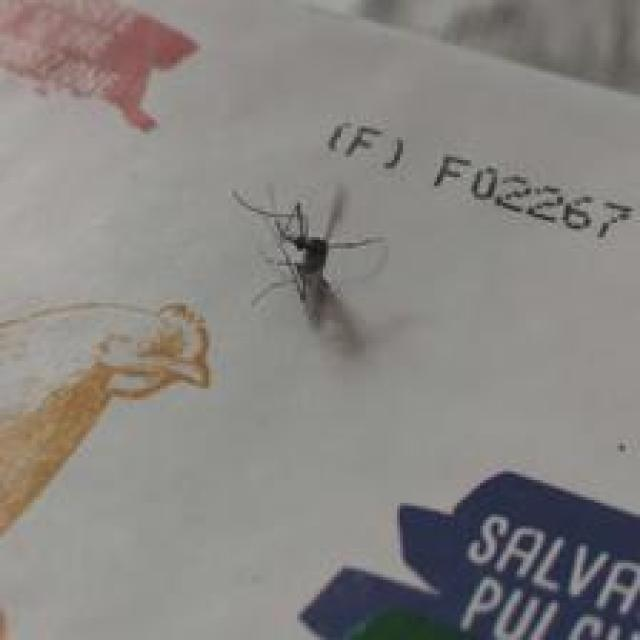Aedes albopictus: (230, 180, 387, 343)
